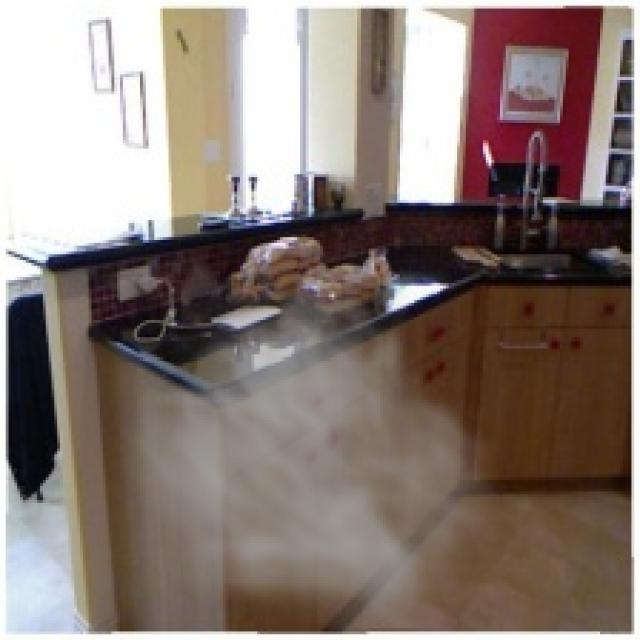smoke: (114, 248, 509, 628)
